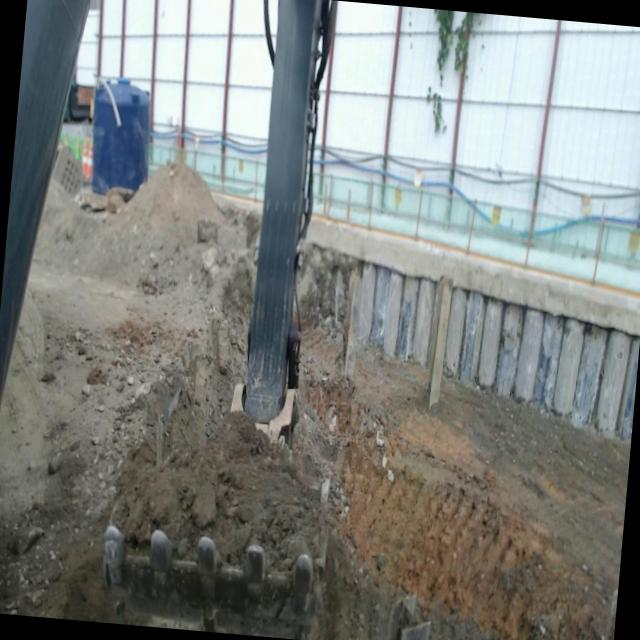cement: (307, 214, 640, 335)
red-sand: (0, 167, 630, 640)
